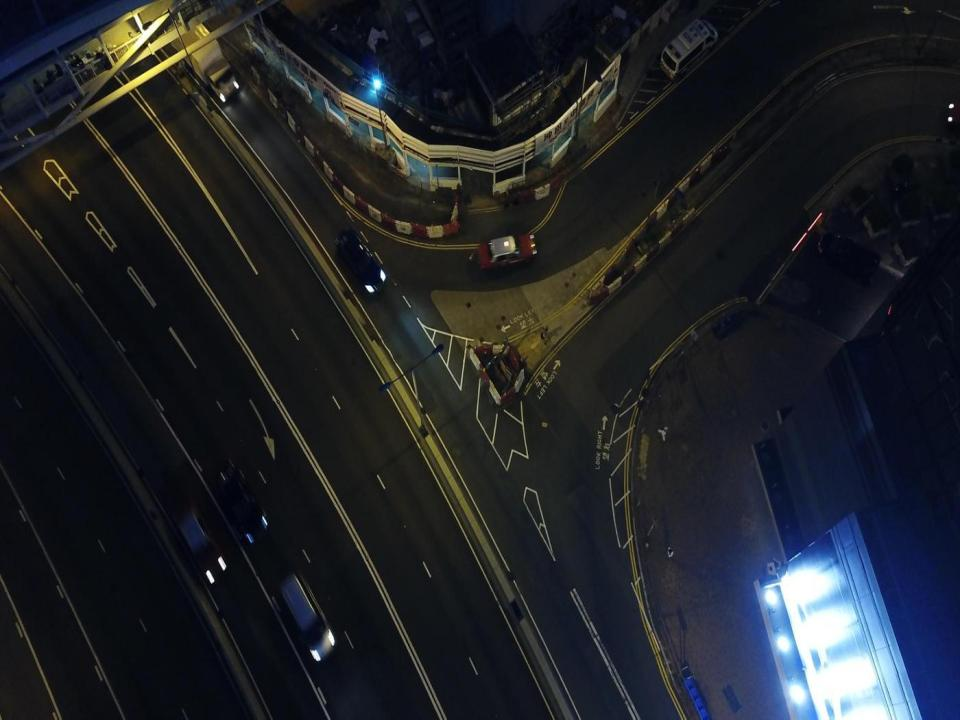car: (161, 9, 239, 103), (216, 468, 268, 547), (176, 510, 227, 586), (334, 228, 388, 297), (477, 235, 536, 267)
van: (270, 573, 334, 665), (662, 21, 717, 79)
